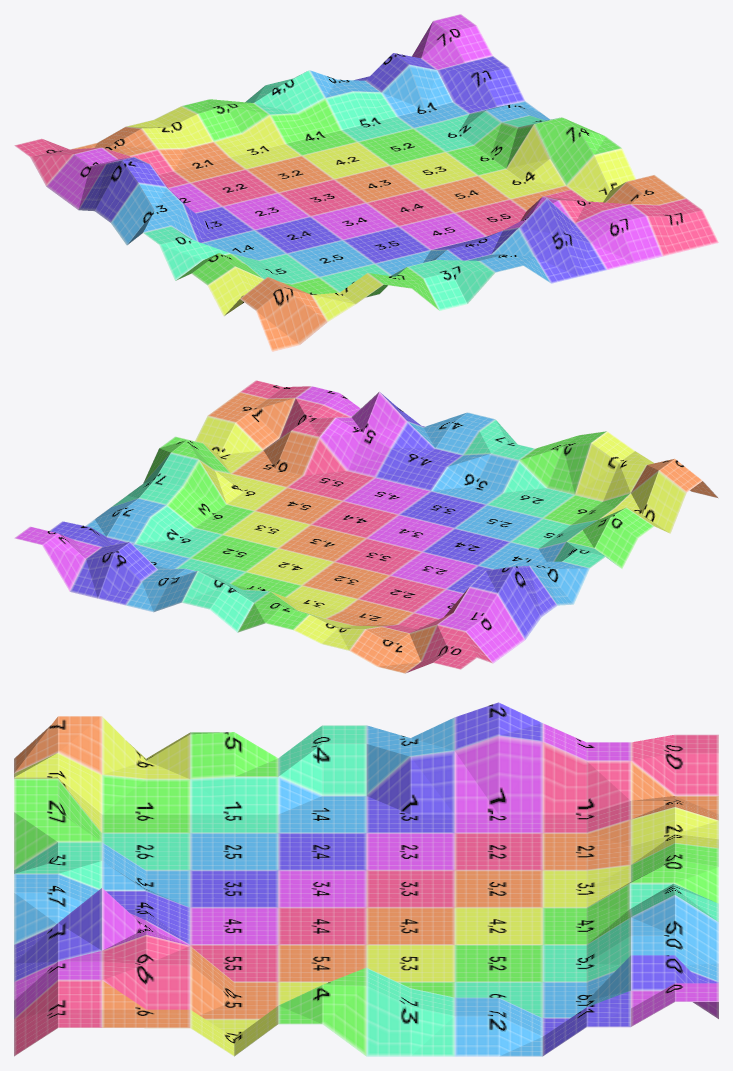
Rendered from grass01.obj.
The picture shows the model from 3 angles, top to bottom: view 1: azimuth 30°, elevation 25°; view 2: azimuth 150°, elevation 25°; view 3: azimuth 270°, elevation 25°; orthographic projection. The views are drawn at different scales.
Parts seen in each view (by area): view 1: 平面; view 2: 平面; view 3: 平面.
Boxes of the visible parts, left/top/right/bottom form: 平面: left=14, top=14, right=718, bottom=351; 平面: left=14, top=380, right=718, bottom=673; 平面: left=14, top=702, right=718, bottom=1056.
Size of the model in its own units: 19.63 by 2.33 by 19.63.
Materials: 1 (1 with a texture image).
